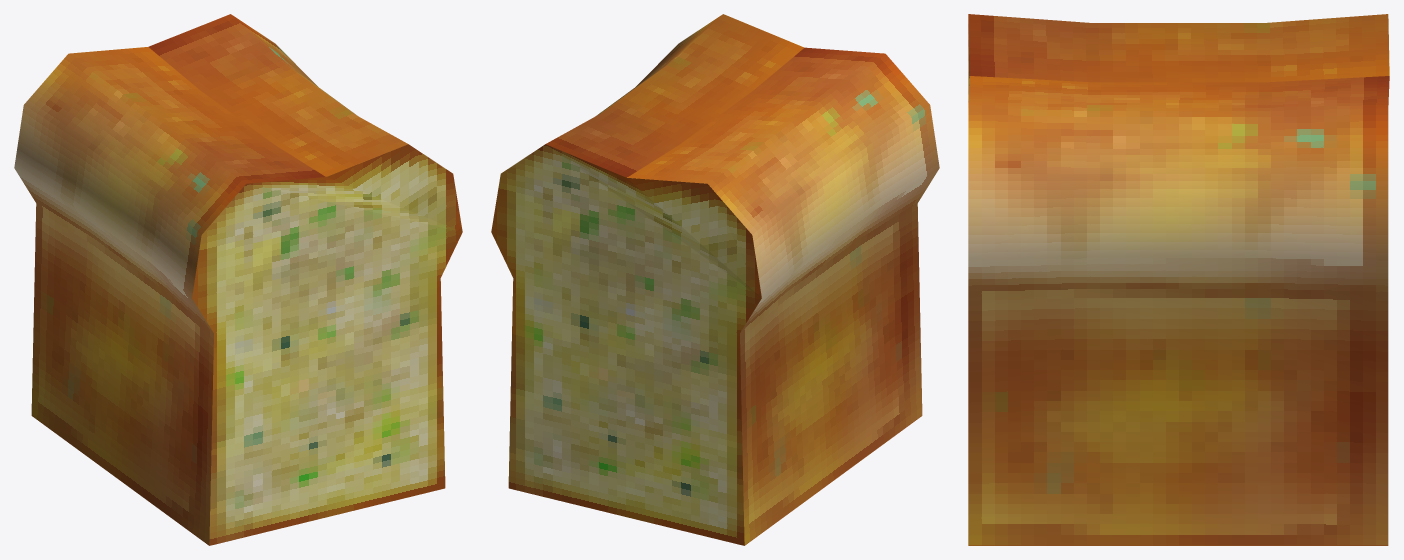
File: SapphBread.fbx
3 views of the same model, side by side, from view 1: azimuth 30°, elevation 25°; view 2: azimuth 150°, elevation 25°; view 3: azimuth 270°, elevation 25° (orthographic). The views are drawn at different scales.
Parts seen in each view (by area): view 1: Bread004; view 2: Bread004; view 3: Bread004.
Part boxes in pixels (bbox=[...]): Bread004: bbox=[14, 14, 462, 545]; Bread004: bbox=[491, 14, 939, 545]; Bread004: bbox=[968, 14, 1389, 545].
Size of the model in its own units: 28.01 by 34.94 by 31.98.
